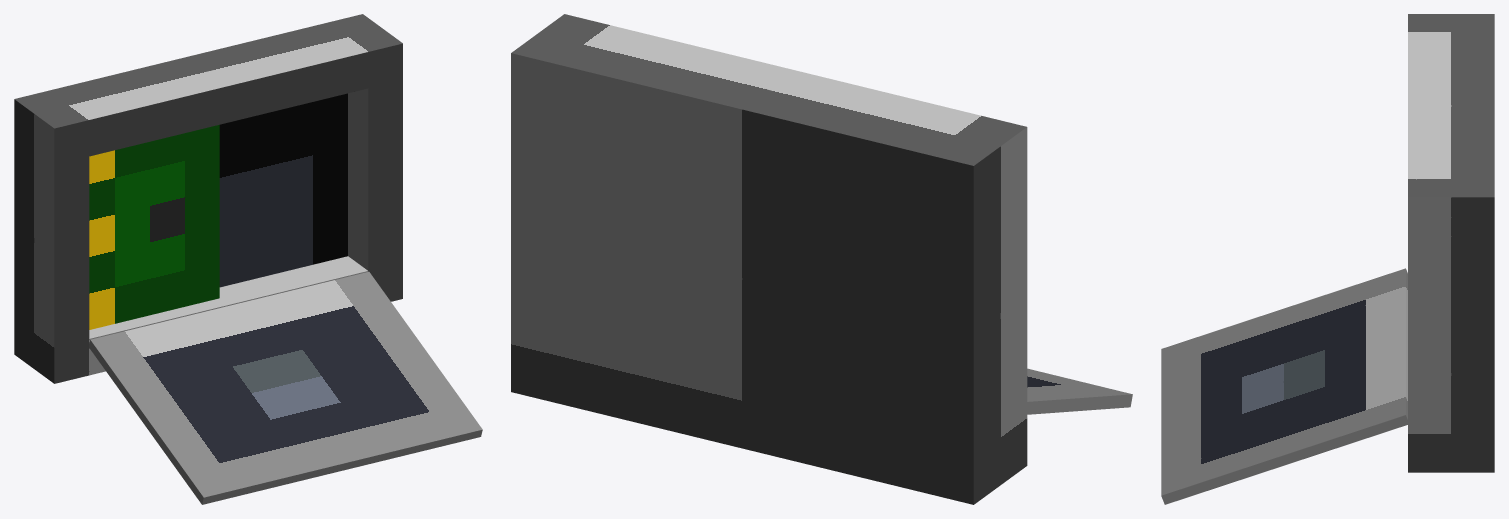
The model's file is door_button_open_board.glb.
The picture shows the model from 3 angles, left to right: view 1: azimuth 30°, elevation 25°; view 2: azimuth 150°, elevation 25°; view 3: azimuth 270°, elevation 25°; orthographic projection. The views are drawn at different scales.
Parts seen in each view (by area): view 1: Continuous_Housing, Service_Cover, Board_Module; view 2: Continuous_Housing, Service_Cover; view 3: Continuous_Housing, Service_Cover.
Boxes of the visible parts, x1=… form: Continuous_Housing: x1=14, y1=14, x2=402, y2=383; Service_Cover: x1=89, y1=272, x2=482, y2=504; Board_Module: x1=89, y1=125, x2=219, y2=329; Continuous_Housing: x1=511, y1=14, x2=1027, y2=504; Service_Cover: x1=1027, y1=368, x2=1132, y2=414; Continuous_Housing: x1=1408, y1=14, x2=1494, y2=472; Service_Cover: x1=1161, y1=268, x2=1407, y2=504.
Bounding box in the file's own units: 0.2812 × 0.2331 × 0.2162.
1 material, 1 textured.
